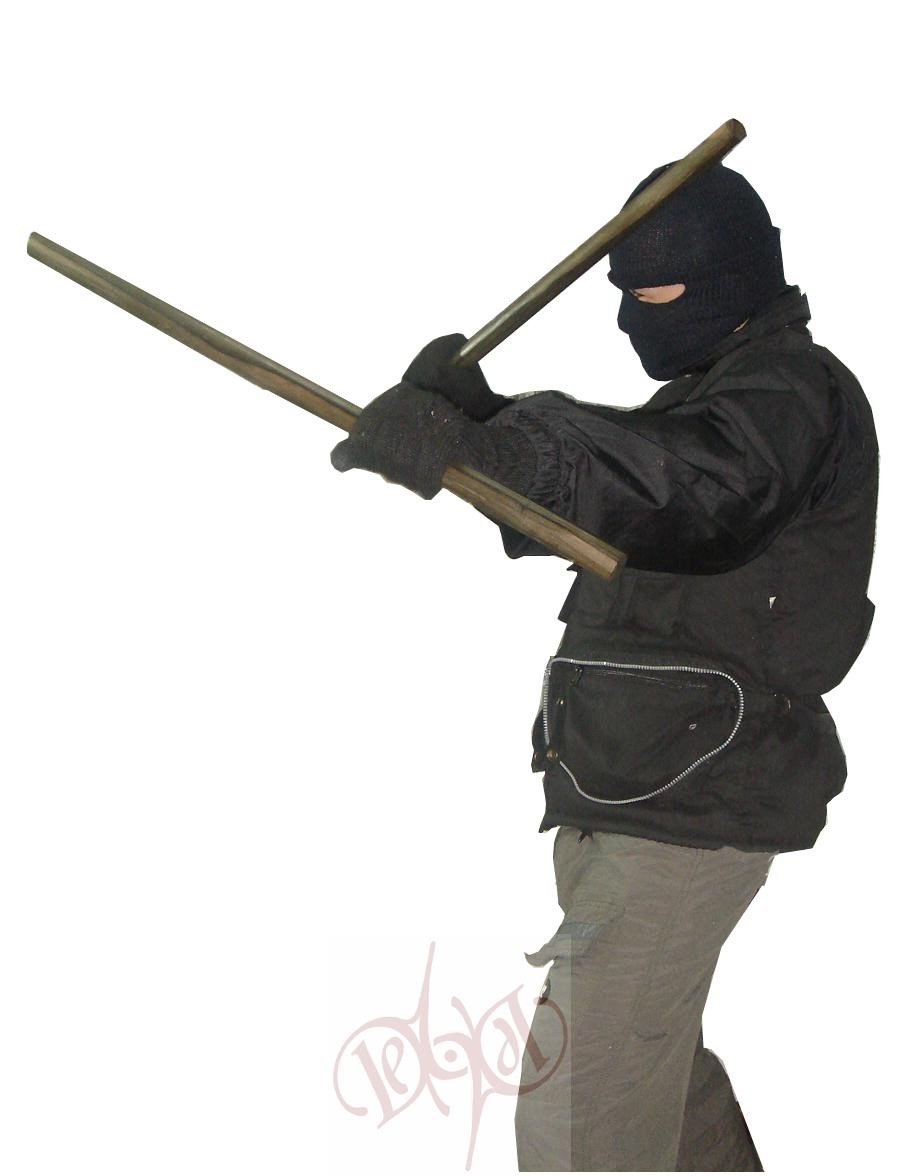baston_e: (39, 232, 598, 581), (468, 125, 726, 369)
baston_v: (596, 548, 639, 587), (17, 222, 42, 263), (722, 115, 753, 142)
